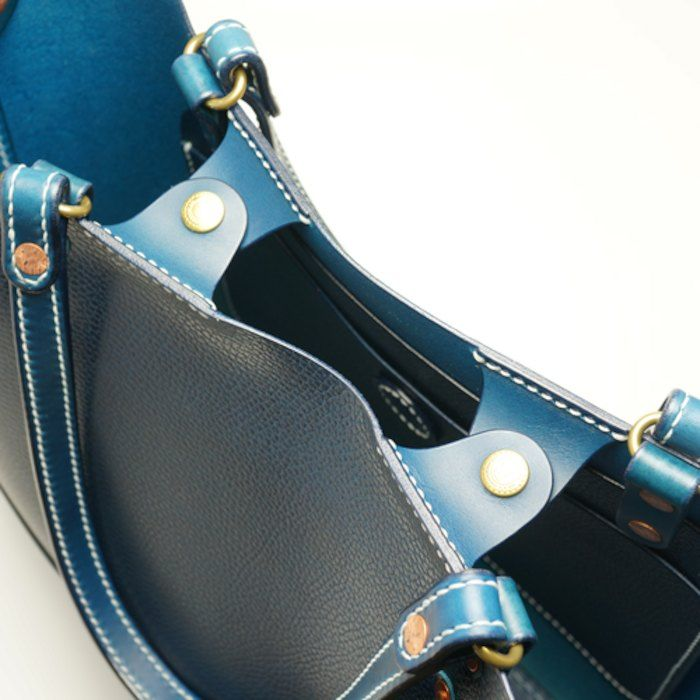cuero: (4, 1, 700, 700)
